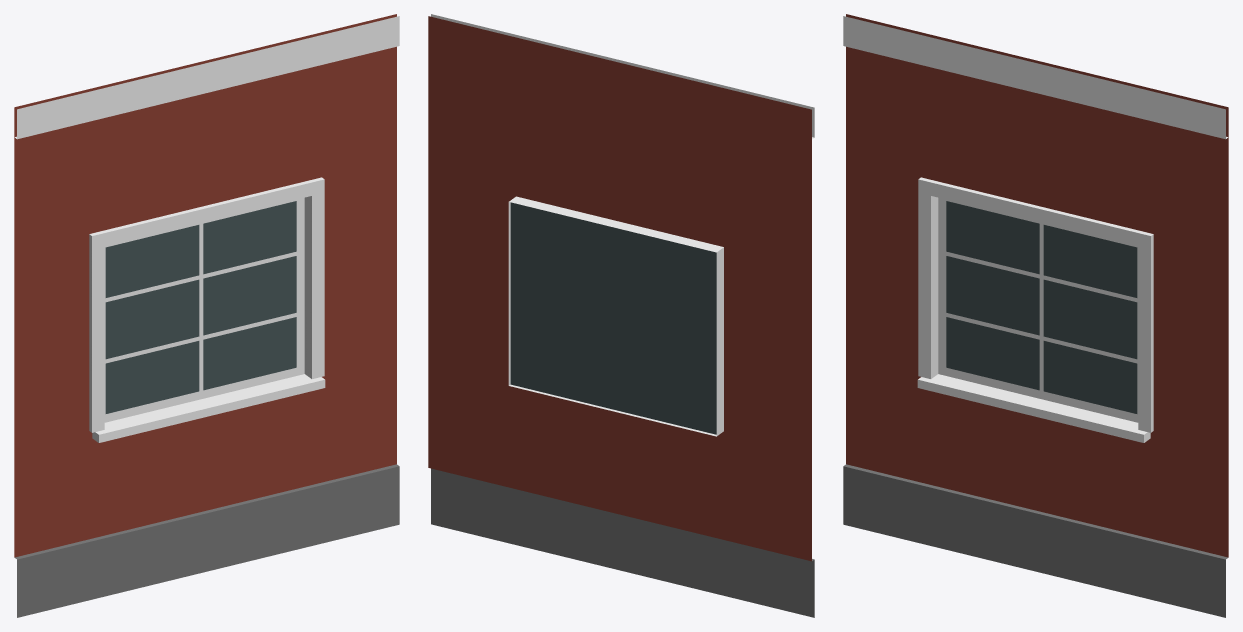
3 views of the same model, side by side, from view 1: azimuth 30°, elevation 25°; view 2: azimuth 150°, elevation 25°; view 3: azimuth 330°, elevation 25° (orthographic).
Parts seen in each view (by area): view 1: a2015/600/base-w3; view 2: a2015/600/base-w3; view 3: a2015/600/base-w3.
Part boxes in pixels (x1,y1,x2,y2): a2015/600/base-w3: (14,14,399,617); a2015/600/base-w3: (428,14,814,617); a2015/600/base-w3: (843,14,1228,617).
Bounding box in the file's own units: 2.4 × 3.05 × 0.15.
